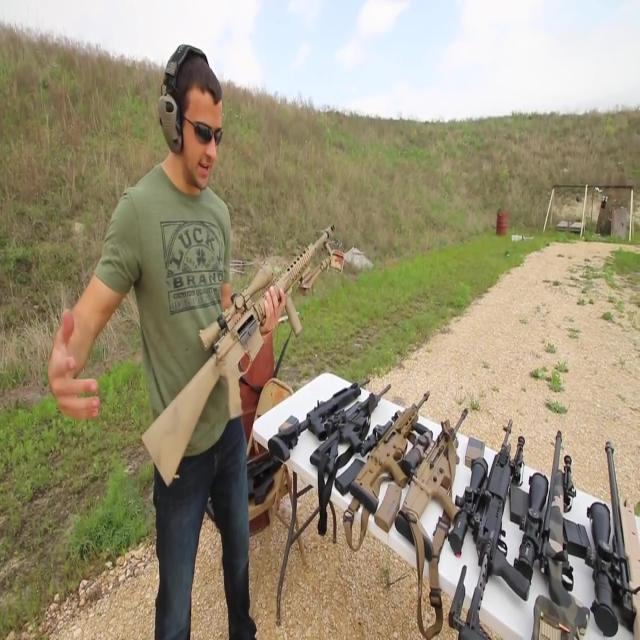Weapon: (218, 358, 640, 640), (114, 228, 365, 503)
